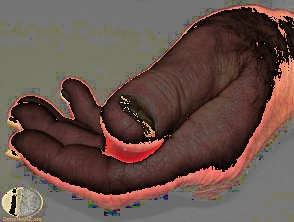Nail_psoriasis: (109, 78, 175, 143), (4, 112, 25, 134), (3, 145, 29, 162), (56, 85, 76, 106)
